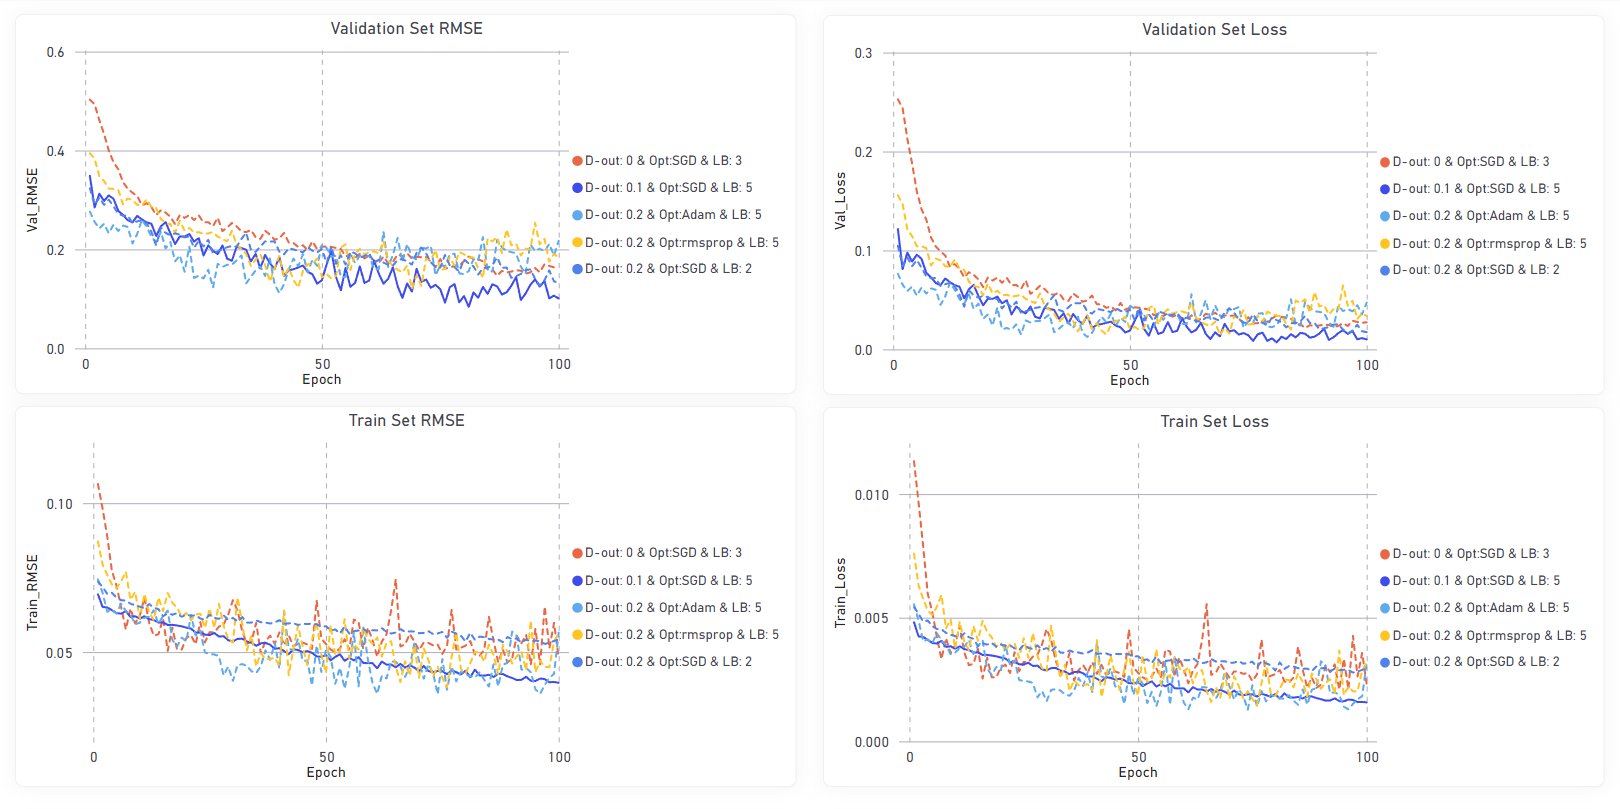

Layout of this report page (visuals, bound fields, positions):
{"tool":"powerbi","page":{"name":"LSTM_Univariate_Predictor","canvas":[1600,800],"ordinal":6},"visuals":[{"type":"lineChart","title":"Valuation Set RMSE","fields":{"Category":["stocks_lstm_no_sentiment.Epoch"],"Y":["Sum(stocks_lstm_no_sentiment.Val_RMSE)"],"Series":["stocks_lstm_no_sentiment.Params"]},"box":[17.9,16.7,834.6,373.8],"z":0},{"type":"lineChart","title":"Train Set RMSE","fields":{"Category":["stocks_lstm_no_sentiment.Epoch"],"Series":["stocks_lstm_no_sentiment.Params"],"Y":["Sum(stocks_lstm_no_sentiment.Train_RMSE)"]},"box":[17.9,408.4,834.6,373.8],"z":3001},{"type":"lineChart","title":"Valuation Set Loss","fields":{"Category":["stocks_lstm_no_sentiment.Epoch"],"Series":["stocks_lstm_no_sentiment.Params"],"Y":["Sum(stocks_lstm_no_sentiment.Val_Loss)"]},"box":[1289.8,16.7,310.2,373.8],"z":3002},{"type":"lineChart","title":"Train Set Loss","fields":{"Category":["stocks_lstm_no_sentiment.Epoch"],"Series":["stocks_lstm_no_sentiment.Params"],"Y":["Sum(stocks_lstm_no_sentiment.Train_Loss)"]},"box":[1289.8,381.6,302.4,373.8],"z":3003}]}

Visuals, with their boxes in screenshot pixels (x1, y1, x2, y2), scaled from the page's 1600x800 canvas onto the 1620x809 screenshot:
"Valuation Set RMSE" lineChart: bbox=(18, 17, 863, 395)
"Train Set RMSE" lineChart: bbox=(18, 413, 863, 791)
"Valuation Set Loss" lineChart: bbox=(1306, 17, 1619, 395)
"Train Set Loss" lineChart: bbox=(1306, 386, 1612, 764)
